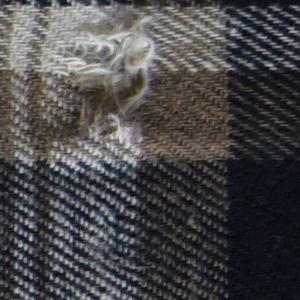Damage: (45, 10, 165, 166), (77, 202, 141, 276)
